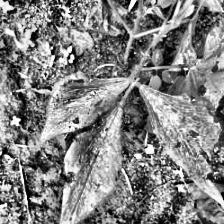ALS: (61, 125, 122, 224), (154, 100, 224, 184), (49, 68, 106, 132), (185, 31, 224, 100), (85, 0, 106, 8)
